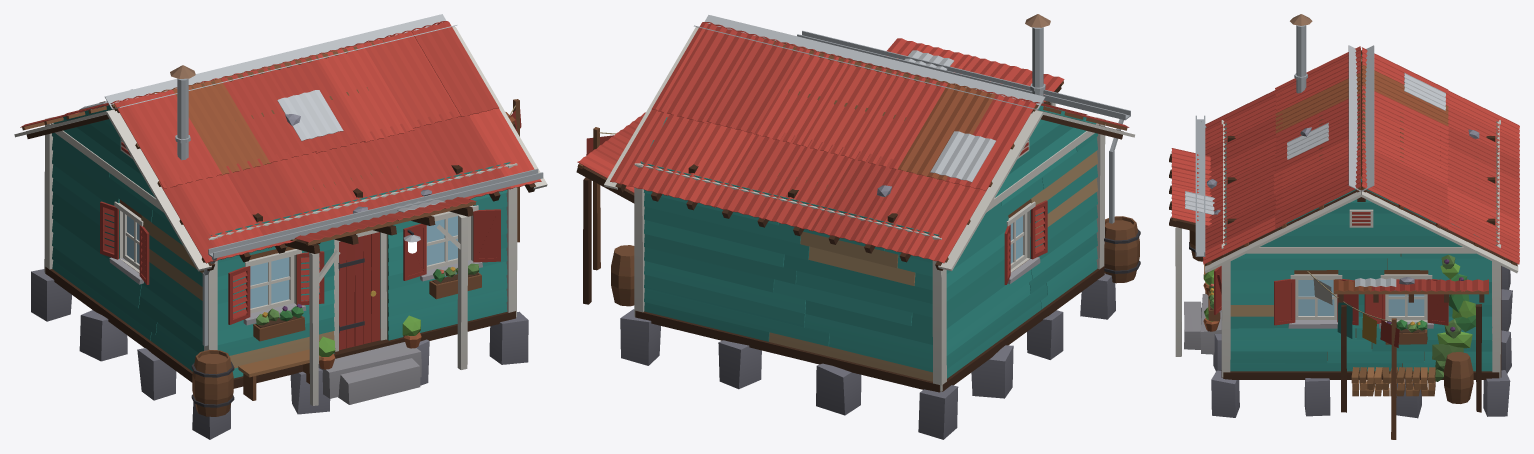
3 views of the same model, side by side, from view 1: azimuth 30°, elevation 25°; view 2: azimuth 150°, elevation 25°; view 3: azimuth 270°, elevation 25° (orthographic). The views are drawn at different scales.
Parts seen in each view (by area): view 1: H10_ROOF, H10_WALL_E, H10_WALL_S, H10_BASE, H10_DOOR_main, H10_WALL_N; view 2: H10_ROOF, H10_WALL_W, H10_WALL_S, H10_BASE, H10_WALL_E, H10_WALL_N; view 3: H10_ROOF, H10_WALL_N, H10_BASE, H10_WALL_E, H10_WALL_W.
Boxes of the visible parts, x1,y1,x2,y2 form: H10_ROOF: (14,14,547,271); H10_WALL_E: (191,162,543,416); H10_WALL_S: (44,105,208,371); H10_BASE: (31,267,528,439); H10_DOOR_main: (338,232,380,350); H10_WALL_N: (505,99,521,316); H10_ROOF: (604,14,1134,271); H10_WALL_W: (634,162,941,391); H10_WALL_S: (932,105,1104,391); H10_BASE: (620,266,1115,439); H10_WALL_E: (797,30,1140,283); H10_WALL_N: (576,112,667,316); H10_ROOF: (1203,14,1519,273); H10_WALL_N: (1222,176,1500,439); H10_BASE: (1184,266,1512,418); H10_WALL_E: (1169,115,1230,377); H10_WALL_W: (1496,120,1501,377).
Size of the model in its own units: 7.35 by 5.28 by 5.98.
